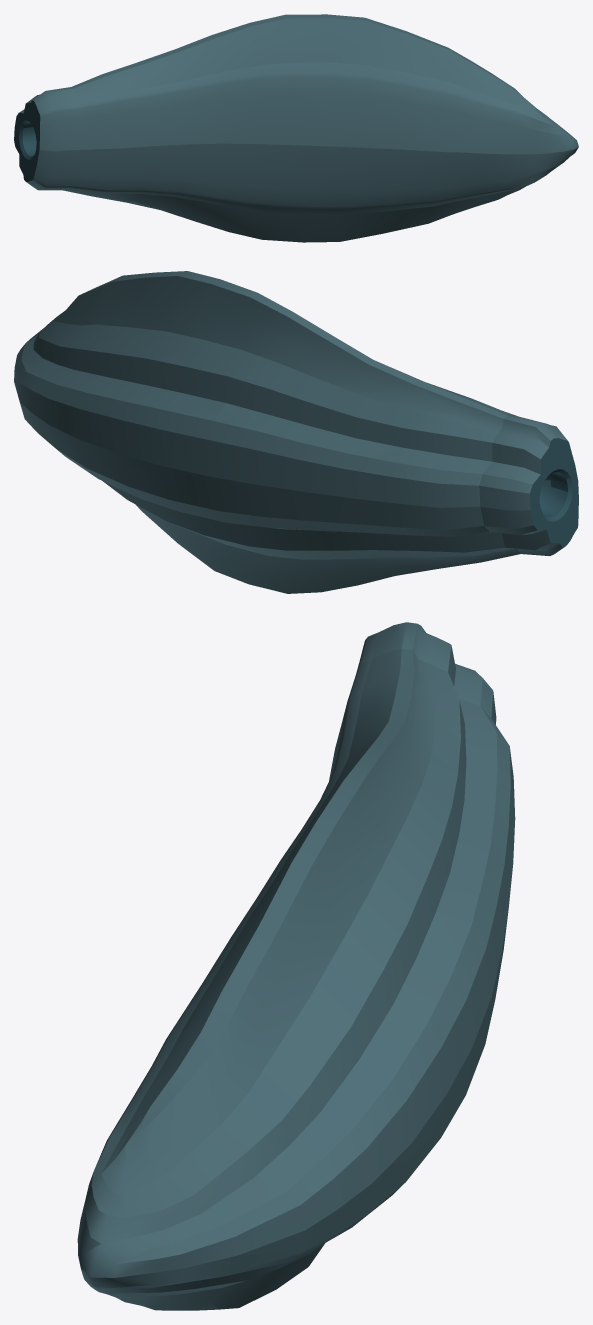
File: DelDer.obj
3 renders of one model, top to bottom at view 1: azimuth 30°, elevation 25°; view 2: azimuth 150°, elevation 25°; view 3: azimuth 270°, elevation 25°, orthographic. The views are drawn at different scales.
Visible parts, largest first — view 1: Mosasaurs:polySurface1 Mosasaurs:Mesh; view 2: Mosasaurs:polySurface1 Mosasaurs:Mesh; view 3: Mosasaurs:polySurface1 Mosasaurs:Mesh.
Boxes of the visible parts, x1=… form: Mosasaurs:polySurface1 Mosasaurs:Mesh: x1=14, y1=14, x2=578, y2=242; Mosasaurs:polySurface1 Mosasaurs:Mesh: x1=14, y1=271, x2=578, y2=593; Mosasaurs:polySurface1 Mosasaurs:Mesh: x1=77, y1=622, x2=515, y2=1310.
Size of the model in its own units: 4.82 by 2.17 by 1.93.
Materials: 1 (1 with a texture image).
